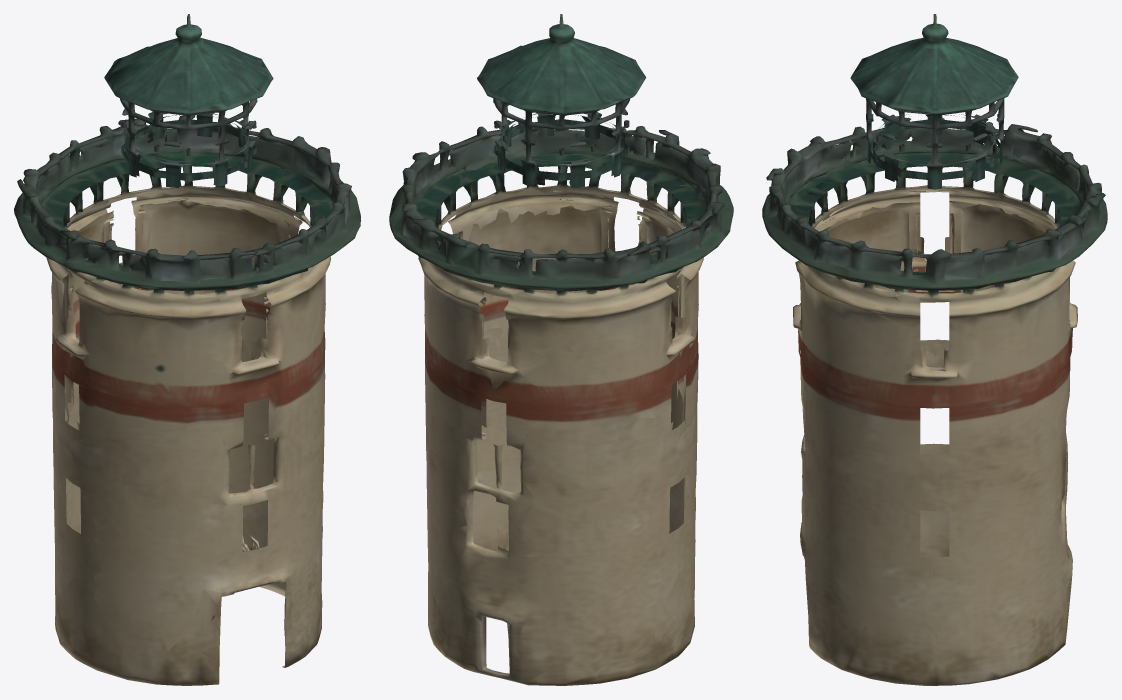
Rendered from lighthouse.glb.
The picture shows the model from 3 angles, left to right: view 1: azimuth 30°, elevation 25°; view 2: azimuth 150°, elevation 25°; view 3: azimuth 270°, elevation 25°; orthographic projection.
Visible parts, largest first — view 1: 归航灯塔 | Lux3D 4229108; view 2: 归航灯塔 | Lux3D 4229108; view 3: 归航灯塔 | Lux3D 4229108.
Part boxes in pixels (<box>): 归航灯塔 | Lux3D 4229108: <box>14,14,360,685</box>; 归航灯塔 | Lux3D 4229108: <box>389,14,733,685</box>; 归航灯塔 | Lux3D 4229108: <box>762,14,1107,685</box>.
Bounding box in the file's own units: 10.03 × 19.7 × 10.
1 material, 1 textured.
